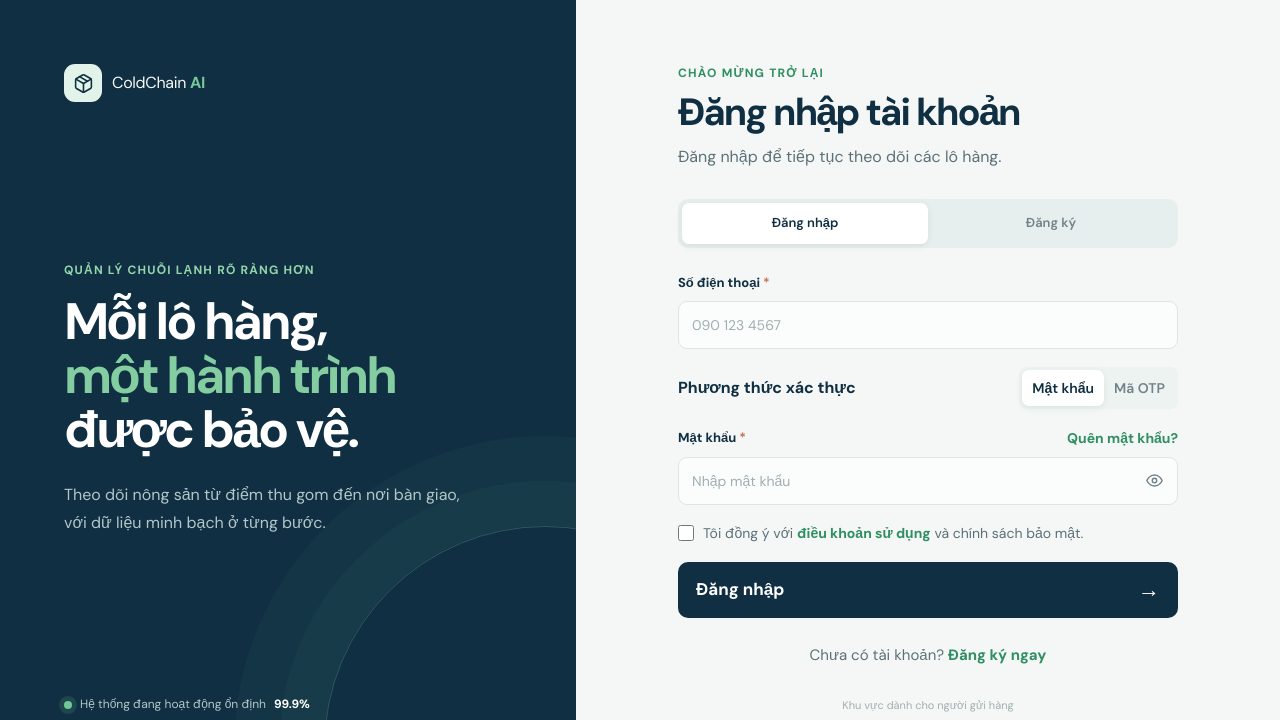
Test: AuthPage › shows inline validation for an invalid phone number
This screenshot has width=1280, height=720.
Type "123" into the field labelled "Số điện thoại *" at (928, 325), box [678,301,1178,349]
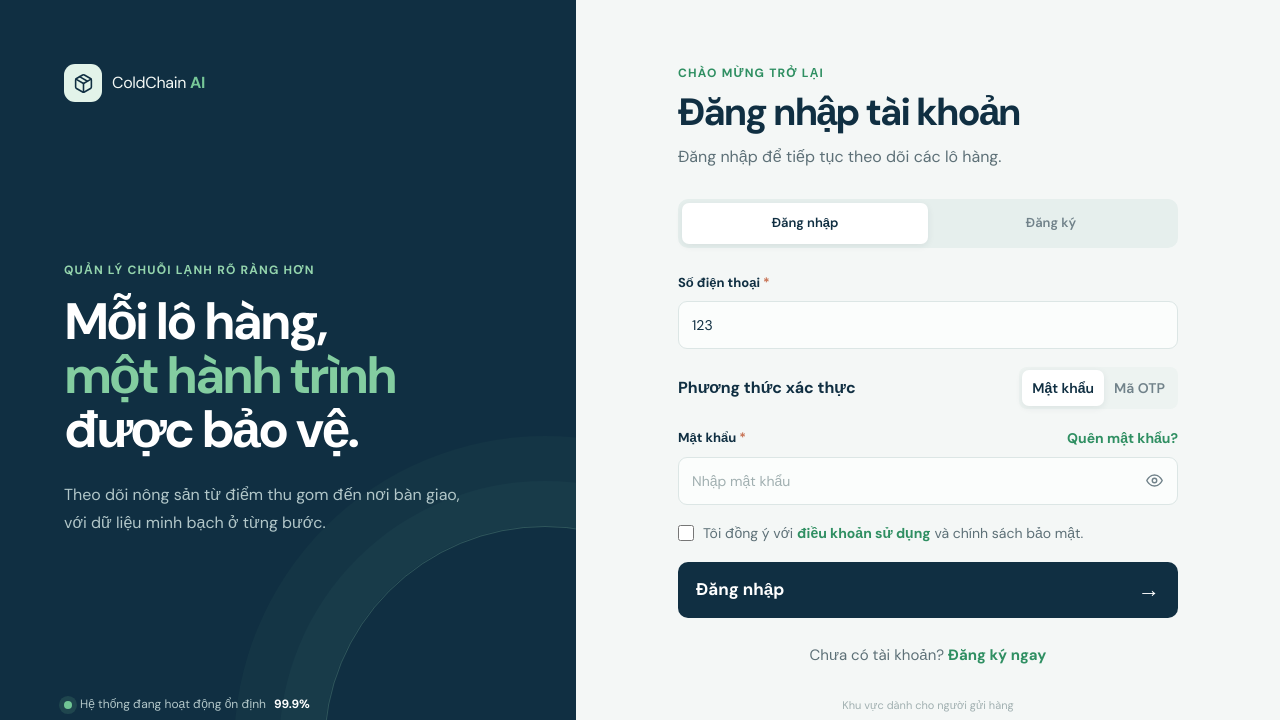
Type "secret1" into the password field labelled "Mật khẩu *" at (928, 481), box [678,457,1178,505]
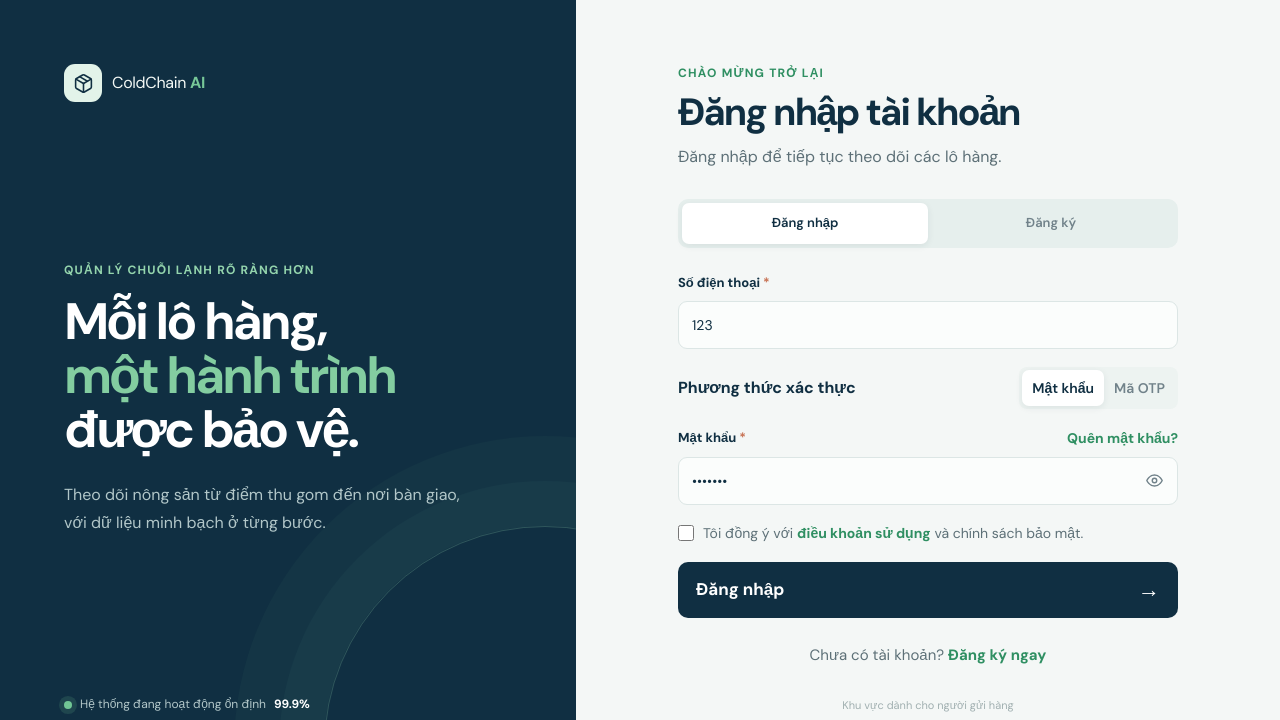
Click the button "Đăng nhập →" at (740, 589), box [678,562,1178,618]
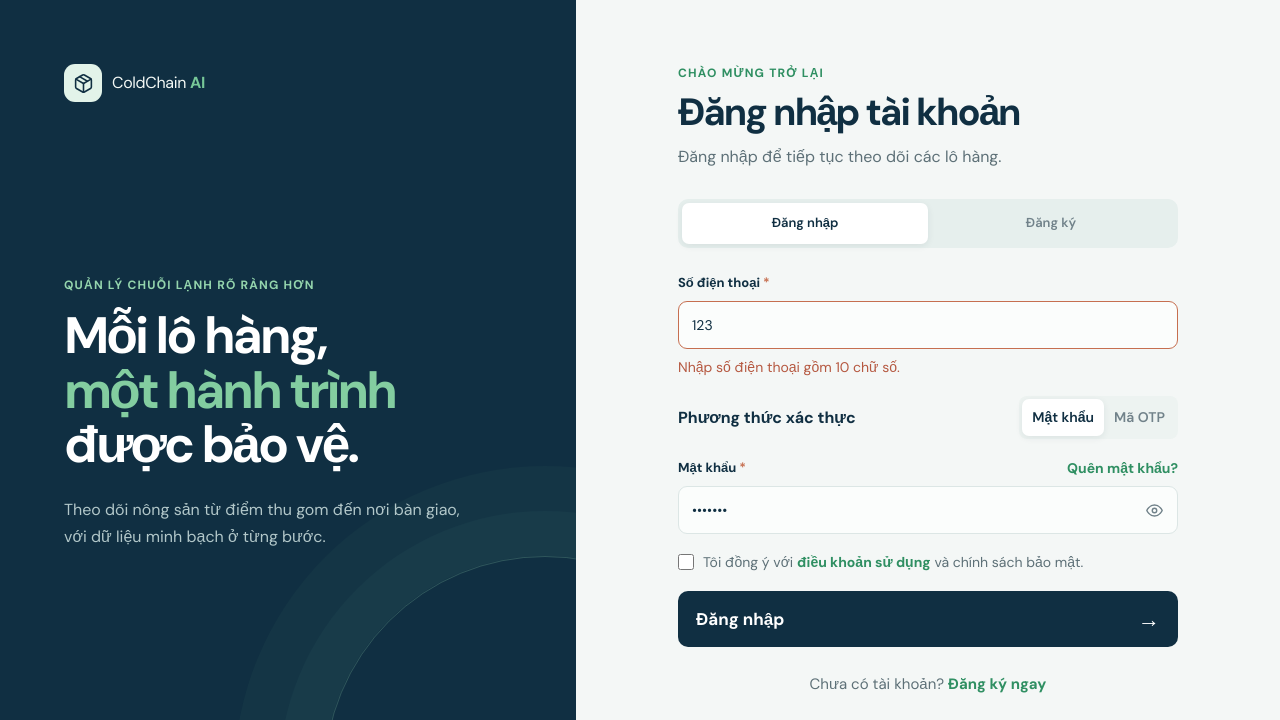
Result: the text "Nhập số điện thoại gồm 10 chữ số." is shown at [678,358,900,376]
